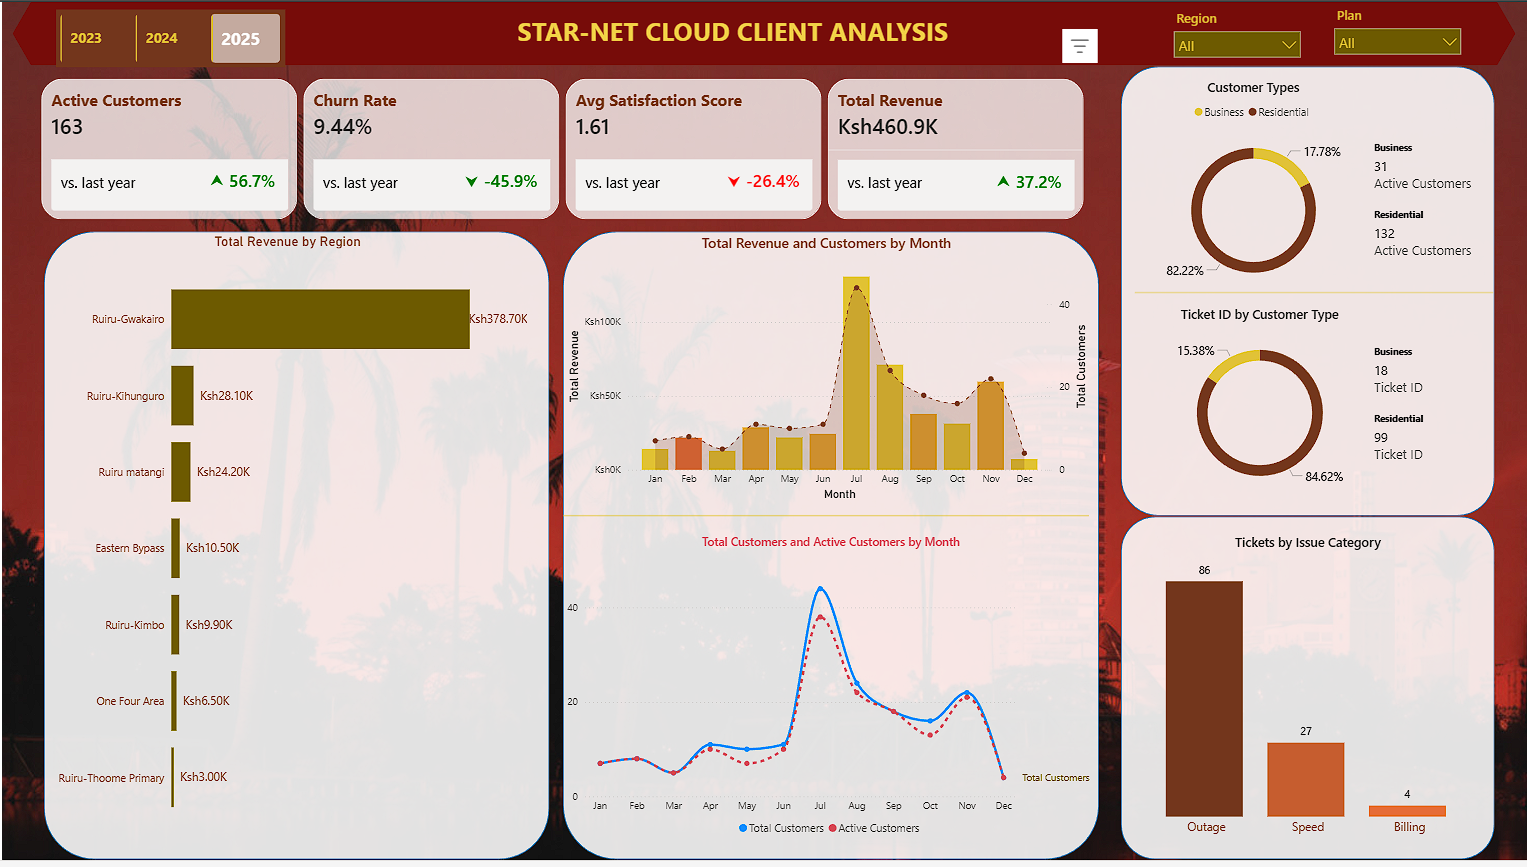

This screenshot's page, from the dashboard's own definition file:
{"tool":"powerbi","page":{"name":"Page 1","canvas":[1920,1080],"ordinal":0},"visuals":[{"type":"shape","box":[13.6,0,1892,79.5],"z":0},{"type":"shape","box":[1408.2,81.8,470.2,565.6],"z":0,"group":"g1"},{"type":"shape","box":[52.2,288.5,636,790.4],"z":0,"group":"g3"},{"type":"shape","box":[706.4,288.5,674.6,790.4],"z":0,"group":"g4"},{"type":"shape","box":[1408.2,647.3,470.2,431.5],"z":0,"group":"g2"},{"type":"advancedSlicerVisual","fields":{"Values":["Calendar.Year"]},"box":[68.1,9.1,288.5,72.7],"z":1000},{"type":"lineChart","fields":{"Category":["Calendar.Short Month Name"],"Y":["My Measures.Total Customers","My Measures.Active Customers"]},"box":[706.4,667.8,674.6,390.7],"z":1000,"group":"g4"},{"type":"slicer","fields":{"Values":["customer_master.Region"]},"box":[1465,4.5,179.4,70.4],"z":2000},{"type":"textbox","box":[413.4,9.1,1013,56.8],"z":3000},{"type":"lineStackedColumnComboChart","title":"Total Revenue and Customers by Month","fields":{"Category":["Calendar.Short Month Name"],"Y":["My Measures.Total Revenue"],"Y2":["My Measures.Total Customers"]},"box":[706.4,290.8,663.2,340.7],"z":3000,"group":"g4"},{"type":"cardVisual","fields":{"Data":["My Measures.Active Customers","My Measures.Churn Rate","My Measures.Avg Satisfaction Score","My Measures.Total Revenue"]},"box":[31.8,79.5,1349.2,211.2],"z":4000},{"type":"group","id":"g1","title":"Group 2","box":[1408.2,81.8,470.2,565.6],"z":5000},{"type":"clusteredColumnChart","title":"Tickets by Issue Category","fields":{"Category":["service_tickets.Issue_Category"],"Y":["CountNonNull(service_tickets.Ticket_ID)"]},"box":[1408.2,667.7,470.2,390.7],"z":5000,"group":"g5"},{"type":"donutChart","title":"Ticket ID by Customer Type","fields":{"Y":["CountNonNull(service_tickets.Ticket_ID)"],"Category":["customer_master.Customer_Type"]},"box":[1426.4,382.3,311.2,249.6],"z":6000,"group":"g1"},{"type":"group","id":"g2","title":"Group 3","box":[1408.2,647.3,470.2,431.5],"z":6000},{"type":"donutChart","title":"Customer Types","fields":{"Y":["My Measures.Total Customers"],"Series":["customer_master.Customer_Type"]},"box":[1426.4,97.3,295.3,280.6],"z":7000,"group":"g1"},{"type":"group","id":"g3","title":"Group 4","box":[52.2,288.5,636,790.4],"z":7000},{"type":"clusteredBarChart","fields":{"Category":["customer_master.Region"],"Y":["My Measures.Total Revenue"]},"box":[52.2,290.8,613.3,767.7],"z":7000,"group":"g3"},{"type":"group","id":"g4","title":"Group 5","box":[706.4,288.5,674.6,790.4],"z":8000},{"type":"group","id":"g5","title":"Group 1","box":[1408.2,667.7,470.2,390.7],"z":8000,"group":"g2"},{"type":"slicer","fields":{"Values":["customer_master.Plan"]},"box":[1667.1,0,179.4,70.4],"z":9000},{"type":"multiRowCard","fields":{"Values":["customer_master.Customer_Type","CountNonNull(service_tickets.Ticket_ID)"]},"box":[1721.6,426.4,124.9,190],"z":10000,"group":"g1"},{"type":"shape","box":[705.4,601.9,662.3,88.4],"z":10000},{"type":"multiRowCard","fields":{"Values":["customer_master.Customer_Type","My Measures.Active Customers"]},"box":[1721.6,170.2,156.7,185.6],"z":11000,"group":"g1"},{"type":"shape","box":[1425.9,345,452,44.2],"z":12000,"group":"g1"}]}

Visuals, with their boxes in screenshot pixels (x1, y1, x2, y2), scaled from the page's 1920x1080 canvas onto the 1527x867 screenshot:
shape: 11:0:1516:64
shape: 1120:66:1494:520
shape: 42:232:547:866
shape: 562:232:1098:866
shape: 1120:520:1494:866
advancedSlicerVisual - Calendar.Year: 54:7:284:66
lineChart - Calendar.Short Month Name x My Measures.Total Customers: 562:536:1098:850
slicer - customer_master.Region: 1165:4:1308:60
textbox: 329:7:1134:53
"Total Revenue and Customers by Month" lineStackedColumnComboChart: 562:233:1089:507
cardVisual - My Measures.Active Customers x My Measures.Churn Rate: 25:64:1098:233
"Group 2" group: 1120:66:1494:520
"Tickets by Issue Category" clusteredColumnChart: 1120:536:1494:850
"Ticket ID by Customer Type" donutChart: 1134:307:1382:507
"Group 3" group: 1120:520:1494:866
"Customer Types" donutChart: 1134:78:1369:303
"Group 4" group: 42:232:547:866
clusteredBarChart - customer_master.Region x My Measures.Total Revenue: 42:233:529:850
"Group 5" group: 562:232:1098:866
"Group 1" group: 1120:536:1494:850
slicer - customer_master.Plan: 1326:0:1469:57
multiRowCard - customer_master.Customer_Type x CountNonNull(service_tickets.Ticket_ID): 1369:342:1469:495
shape: 561:483:1088:554
multiRowCard - customer_master.Customer_Type x My Measures.Active Customers: 1369:137:1494:286
shape: 1134:277:1494:312
